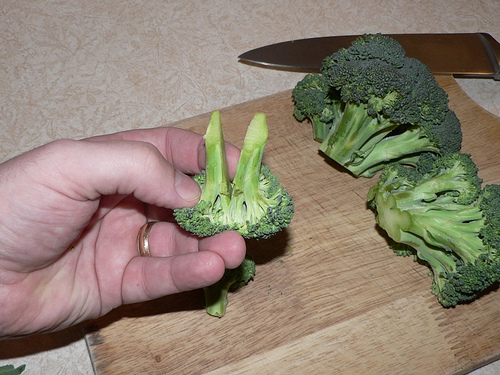broccoli: (365, 150, 499, 308), (318, 32, 463, 178), (170, 105, 298, 243), (287, 71, 344, 142), (195, 256, 257, 319)
